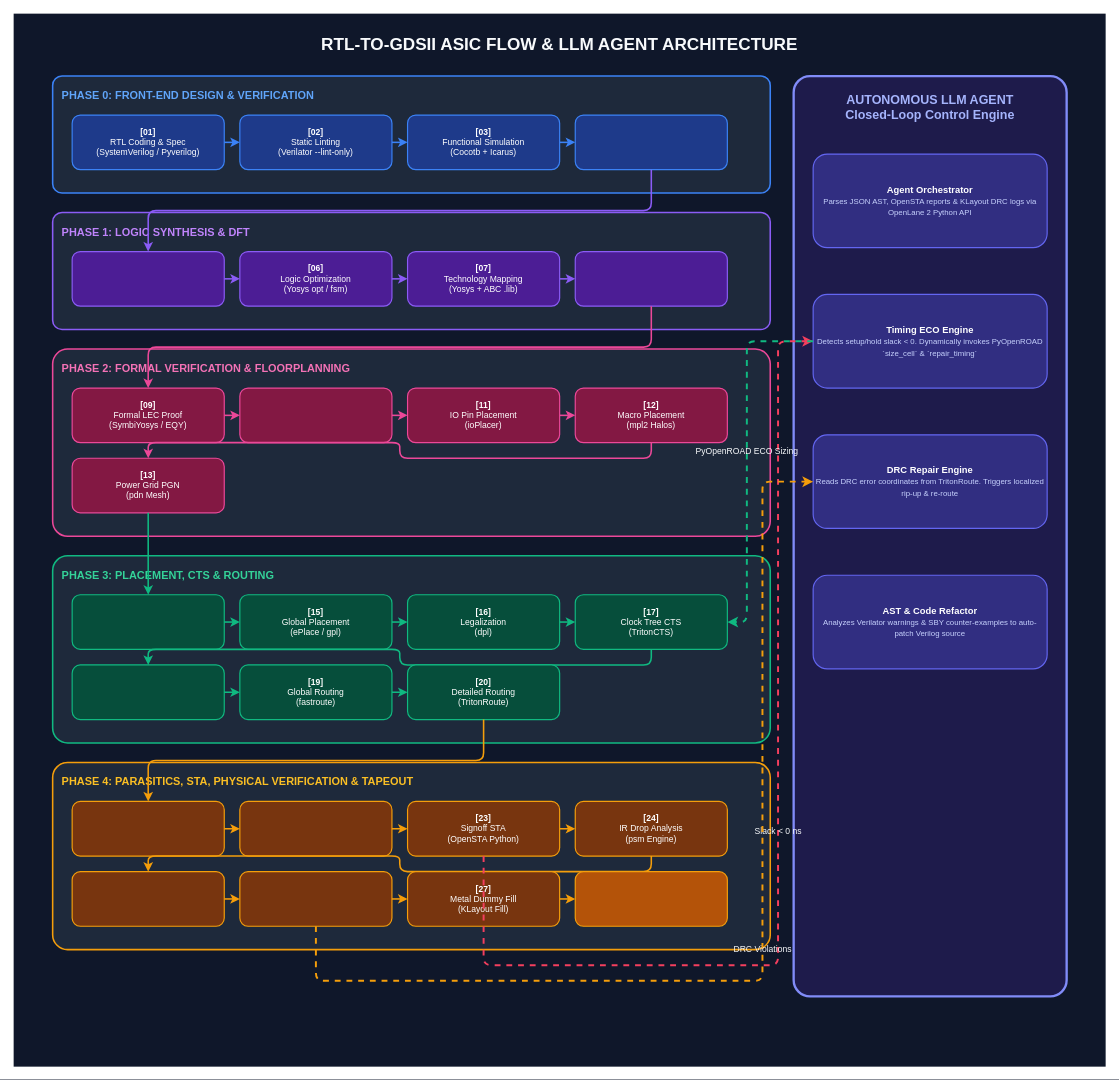
Some shapes in this 1119 by 1080 pixel diagram are drawn without their labels. Each missing label, with the centre of its shape:
[04] CDC & RDC Analysis (Pyverilog AST): point (651, 142)
[05] RTL Elaboration (Yosys AST JSON): point (147, 278)
[08] DFT Scan & ATPG (Fault Python API): point (651, 278)
[10] Die & Core Sizing (PyOpenROAD): point (315, 415)
[14] Tap & Endcaps (tapcell): point (147, 622)
[18] Hold Repair (repair_hold): point (147, 692)
[21] Antenna Diodes (antenna_checker): point (147, 828)
[22] RC Extraction (OpenRCX SPEF): point (315, 828)
[25] LVS Verification (Netgen / Magic): point (147, 898)
[26] DRC Verification (KLayout / Magic): point (315, 898)
[28] GDSII Tapeout (KLayout Stream): point (651, 898)
